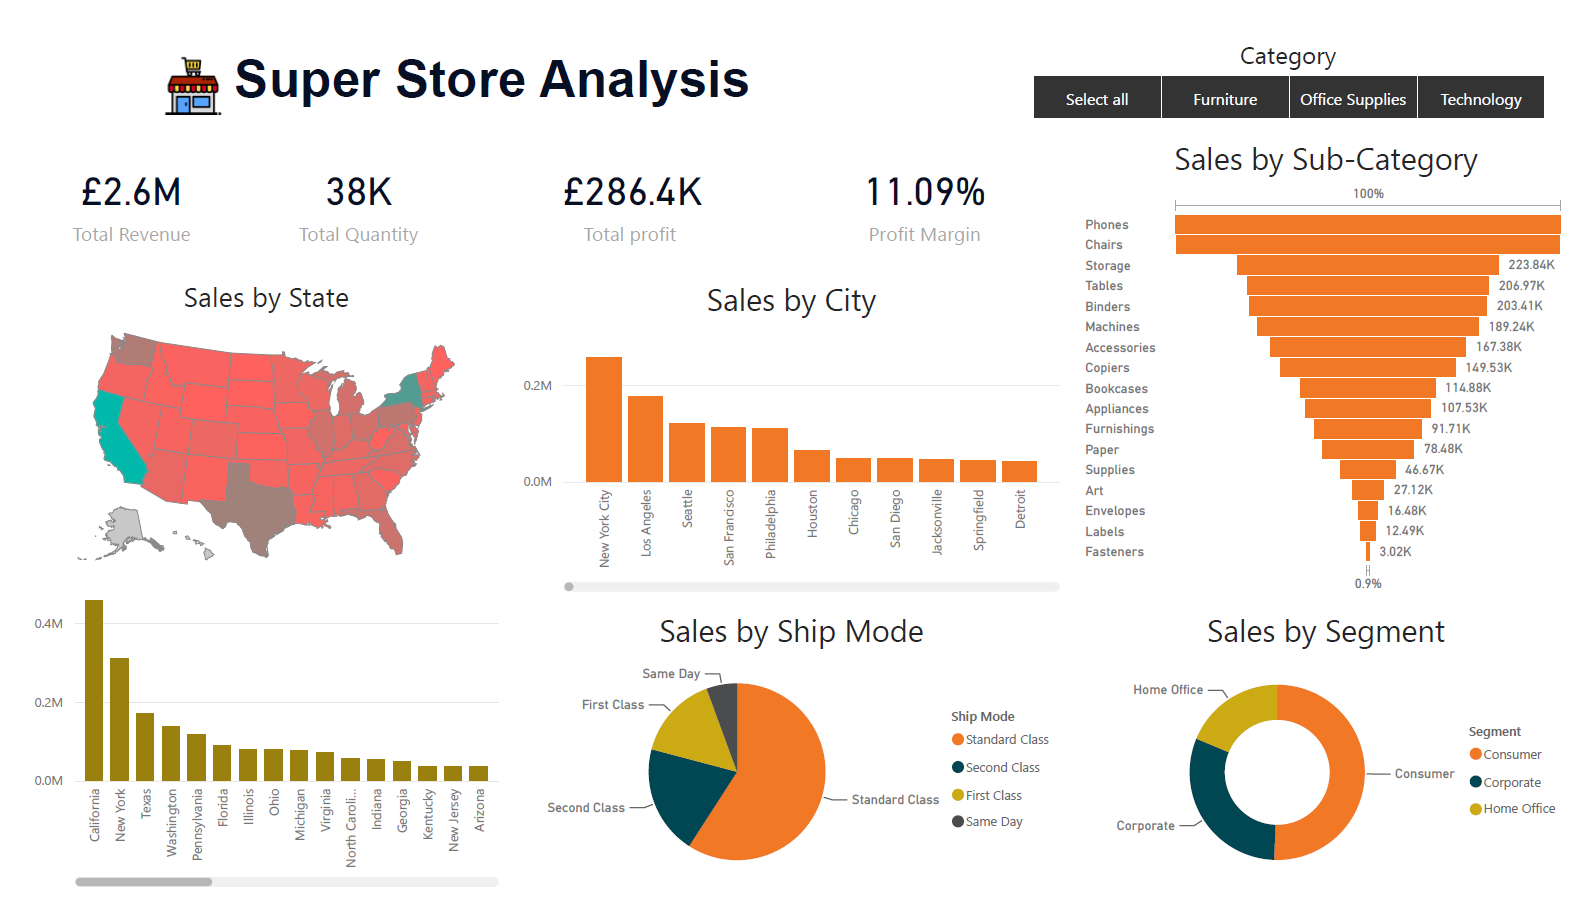

This screenshot's page, from the dashboard's own definition file:
{"tool":"powerbi","page":{"name":"Sales","canvas":[1280,720],"ordinal":0},"visuals":[{"type":"textbox","box":[165.7,16.4,479.3,72.1],"z":0,"group":"g1"},{"type":"card","fields":{"Values":["SampleSuperstore.Profit plus Sales"]},"box":[0,93,171.8,106.3],"z":0},{"type":"image","box":[107.7,20.4,58.2,59.3],"z":1000,"group":"g1"},{"type":"card","fields":{"Values":["Sum(SampleSuperstore.Quantity)"]},"box":[171.8,93,204.6,106.3],"z":1000},{"type":"card","fields":{"Values":["Sum(SampleSuperstore.Profit)"]},"box":[376.4,93,249.7,106.3],"z":2000},{"type":"card","fields":{"Values":["SampleSuperstore.Profit divided by Total Revenue"]},"box":[626.1,93,233.8,106.3],"z":3000},{"type":"shapeMap","title":"Sales by State","fields":{"Category":["SampleSuperstore.State"],"Value":["Sum(SampleSuperstore.Sales)"]},"box":[0,209.9,395,248.9],"z":4000},{"type":"clusteredColumnChart","fields":{"Y":["Sum(SampleSuperstore.Sales)"],"Category":["SampleSuperstore.State"]},"box":[0,449,395,270.1],"z":5000},{"type":"clusteredColumnChart","title":"Sales by City","fields":{"Y":["Sum(SampleSuperstore.Sales)"],"Category":["SampleSuperstore.City"]},"box":[404.7,209.9,455.2,263.9],"z":6000},{"type":"pieChart","title":"Sales by Ship Mode","fields":{"Category":["SampleSuperstore.Ship Mode"],"Y":["Sum(SampleSuperstore.Sales)"]},"box":[404.7,483.5,455.2,235.6],"z":7000},{"type":"funnel","title":"Sales by Sub-Category","fields":{"Category":["SampleSuperstore.Sub-Category"],"Y":["Sum(SampleSuperstore.Sales)"]},"box":[870.6,93,409.2,380.8],"z":8000},{"type":"donutChart","title":"Sales by Segment","fields":{"Category":["SampleSuperstore.Segment"],"Y":["Sum(SampleSuperstore.Sales)"]},"box":[870.6,484.4,409.2,235.6],"z":9000},{"type":"slicer","title":"Category","fields":{"Values":["SampleSuperstore.Category"]},"box":[808.3,10,471.7,73.9],"z":10000},{"type":"group","id":"g1","title":"Group 1","box":[107.7,16.4,537.4,72.1],"z":11000}]}

Visuals, with their boxes in screenshot pixels (x1, y1, x2, y2), scaled from the page's 1280x720 canvas onto the 1595x914 screenshot:
textbox: [206,21,804,112]
card - SampleSuperstore.Profit plus Sales: [0,118,214,253]
image: [134,26,207,101]
card - Sum(SampleSuperstore.Quantity): [214,118,469,253]
card - Sum(SampleSuperstore.Profit): [469,118,780,253]
card - SampleSuperstore.Profit divided by Total Revenue: [780,118,1072,253]
"Sales by State" shapeMap: [0,266,492,582]
clusteredColumnChart - Sum(SampleSuperstore.Sales) x SampleSuperstore.State: [0,570,492,913]
"Sales by City" clusteredColumnChart: [504,266,1072,601]
"Sales by Ship Mode" pieChart: [504,614,1072,913]
"Sales by Sub-Category" funnel: [1085,118,1594,601]
"Sales by Segment" donutChart: [1085,615,1594,913]
"Category" slicer: [1007,13,1594,107]
"Group 1" group: [134,21,804,112]
